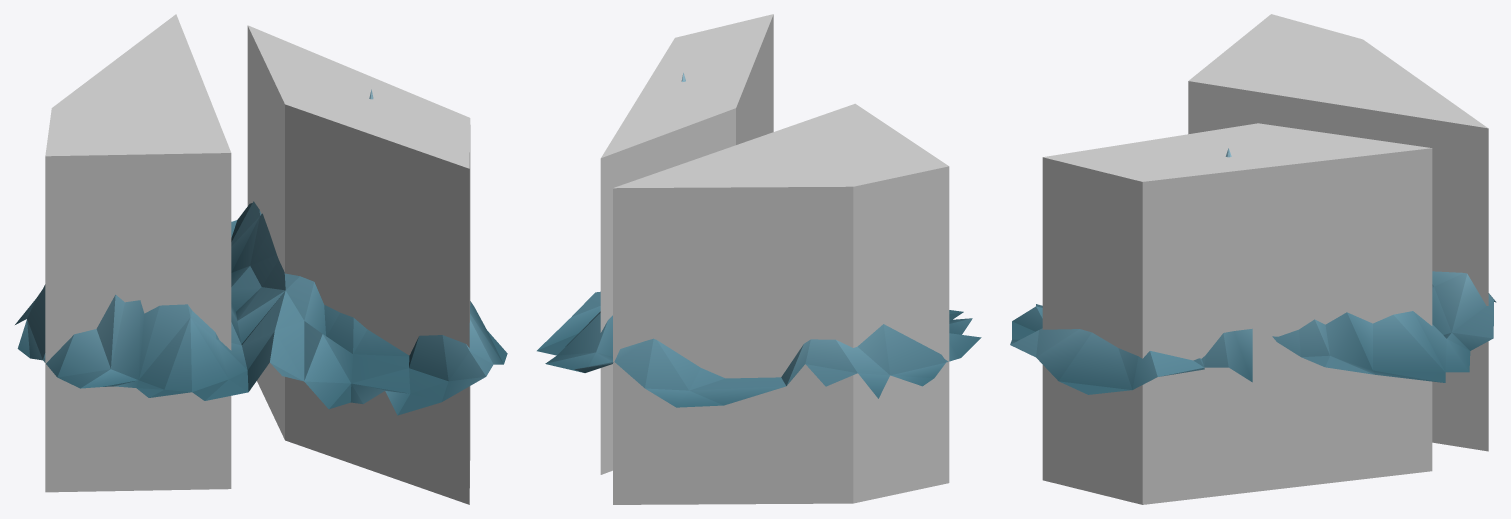
Rendered from island_small_ice_Collection_3.fbx.
3 renders of one model, left to right at view 1: azimuth 30°, elevation 25°; view 2: azimuth 150°, elevation 25°; view 3: azimuth 270°, elevation 25°, orthographic. The views are drawn at different scales.
Visible parts, largest first — view 1: islandRock_3_col, islandRock_3; view 2: islandRock_3_col, islandRock_3; view 3: islandRock_3_col, islandRock_3.
Part boxes in pixels (<box>): islandRock_3_col: <box>45,14,470,504</box>; islandRock_3: <box>15,89,507,415</box>; islandRock_3_col: <box>600,14,949,504</box>; islandRock_3: <box>537,72,981,407</box>; islandRock_3_col: <box>1042,14,1488,504</box>; islandRock_3: <box>1010,148,1496,394</box>.
Bounding box in the file's own units: 2353 × 2100 × 2789.
